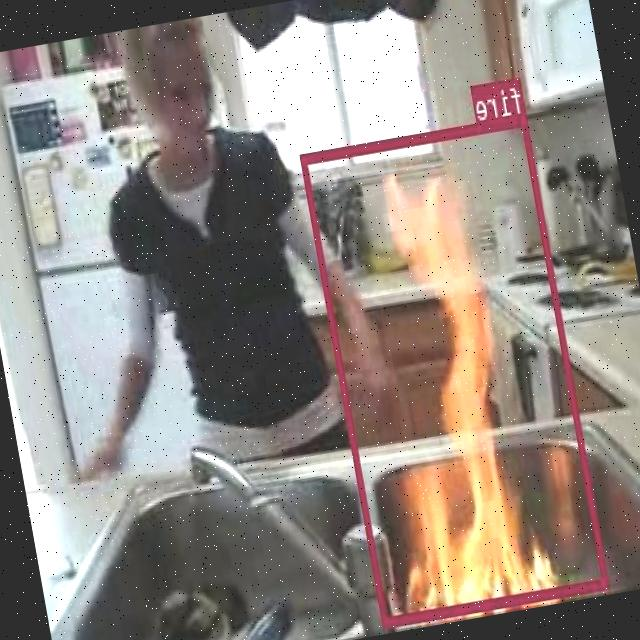fire: (300, 114, 610, 626)
